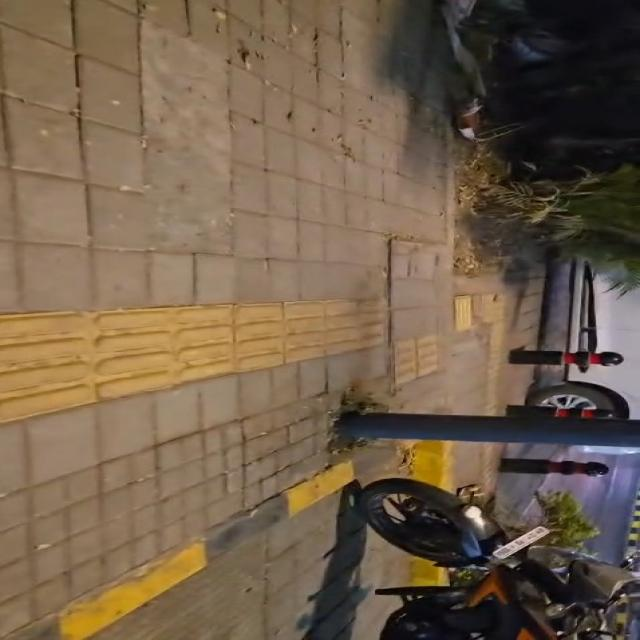bike: (357, 479, 639, 639), (338, 414, 639, 448)
